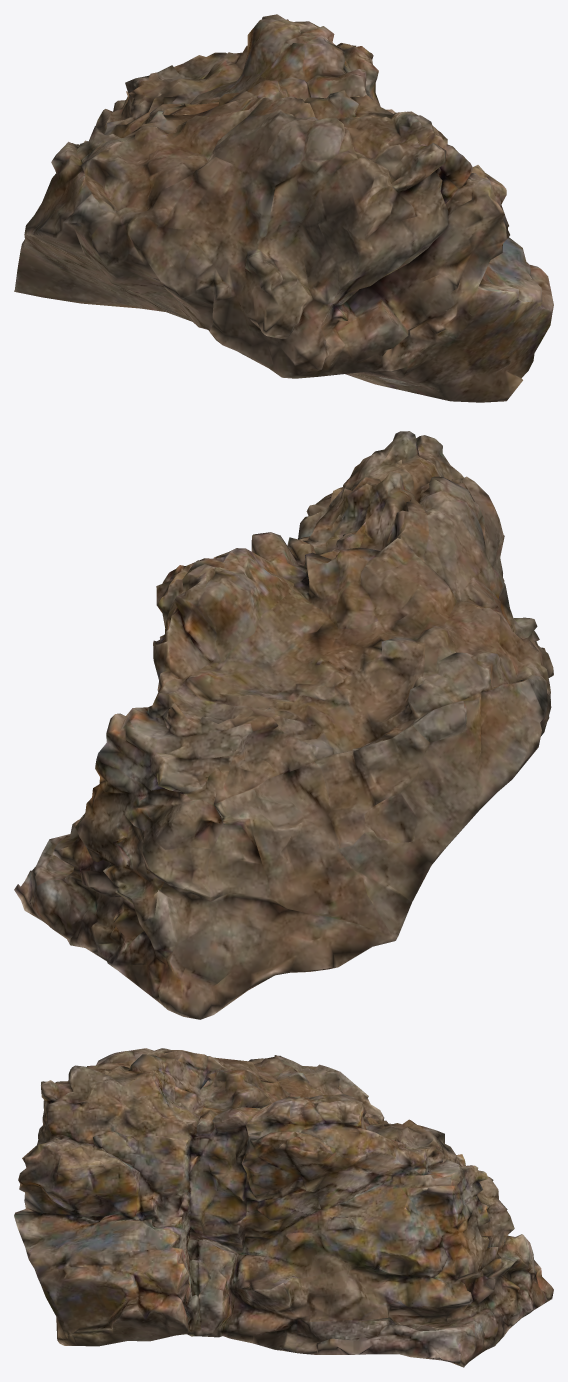
The model's file is rock-light.gltf.
3 views of the same model, one above another, from view 1: azimuth 30°, elevation 25°; view 2: azimuth 150°, elevation 25°; view 3: azimuth 270°, elevation 25° (orthographic). The views are drawn at different scales.
Visible parts, largest first — view 1: boulder_01; view 2: boulder_01; view 3: boulder_01.
Boxes of the visible parts, bbox=[...] form: boulder_01: bbox=[14, 14, 553, 402]; boulder_01: bbox=[14, 431, 553, 1019]; boulder_01: bbox=[14, 1048, 553, 1367].
Bounding box in the file's own units: 1.27 × 1 × 1.83.
1 material, 1 textured.
